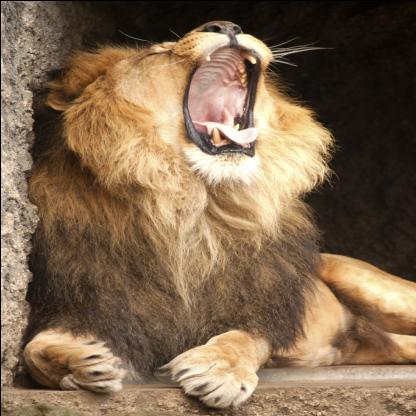lion: (98, 14, 321, 229)
